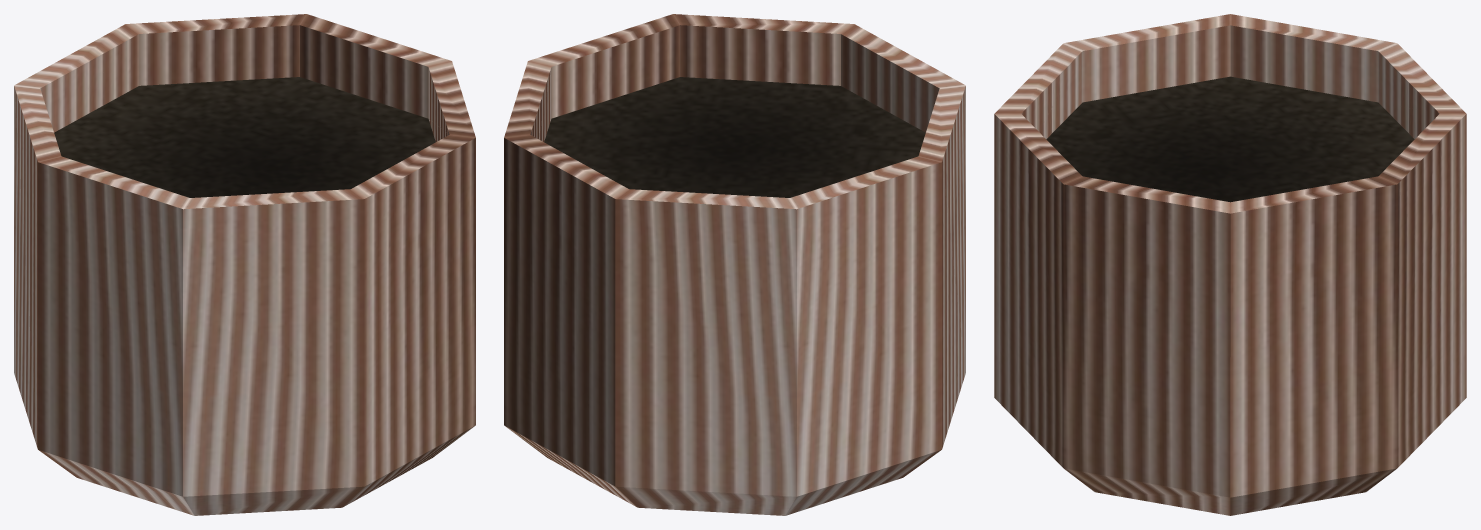
The model's file is pot-3.fbx.
3 renders of one model, left to right at view 1: azimuth 30°, elevation 25°; view 2: azimuth 150°, elevation 25°; view 3: azimuth 270°, elevation 25°, orthographic.
Visible parts, largest first — view 1: pot2; view 2: pot2; view 3: pot2.
Boxes of the visible parts, box(x1,y1,x2,y2) form: pot2: box(14, 14, 475, 515); pot2: box(504, 14, 965, 515); pot2: box(994, 14, 1466, 515).
Bounding box in the file's own units: 43.81 × 32.86 × 43.81.
1 material, 1 textured.
